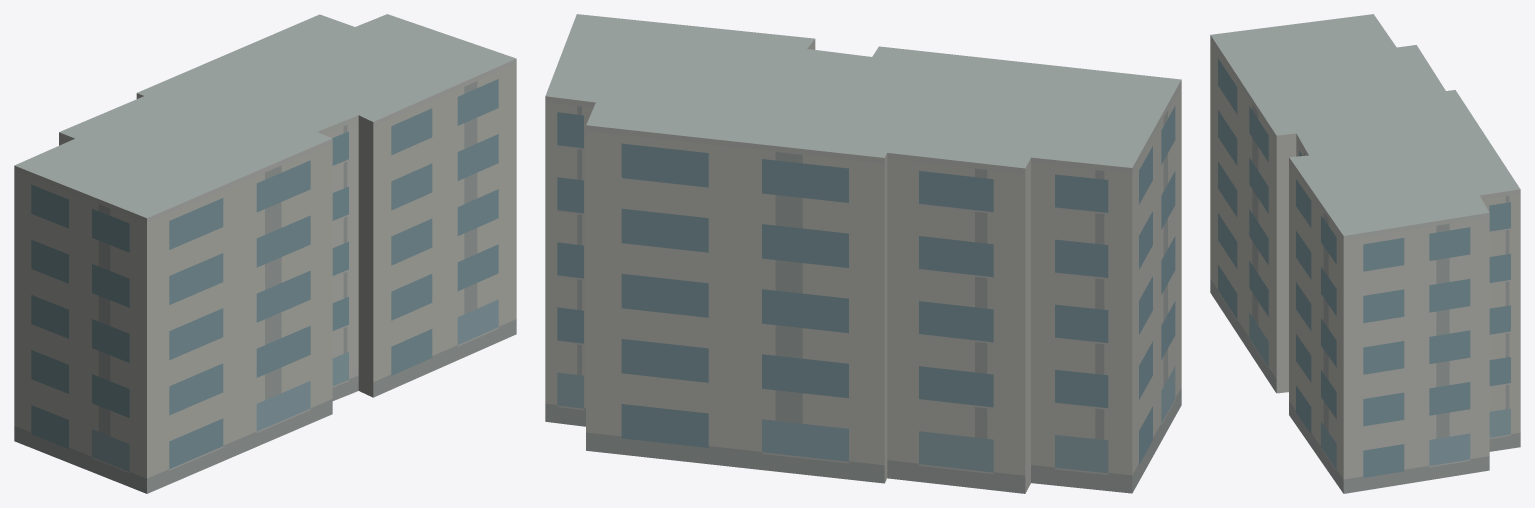
File: survey-upis-32770359.glb
3 views of the same model, side by side, from view 1: azimuth 30°, elevation 25°; view 2: azimuth 150°, elevation 25°; view 3: azimuth 270°, elevation 25° (orthographic). The views are drawn at different scales.
Parts seen in each view (by area): view 1: survey-upis-32770359.tmp; view 2: survey-upis-32770359.tmp; view 3: survey-upis-32770359.tmp.
Boxes of the visible parts, box(x1,y1,x2,y2) form: survey-upis-32770359.tmp: box(14, 14, 516, 493); survey-upis-32770359.tmp: box(545, 14, 1181, 493); survey-upis-32770359.tmp: box(1210, 14, 1520, 493).
Size of the model in its own units: 25.13 by 13.6 by 14.84.
